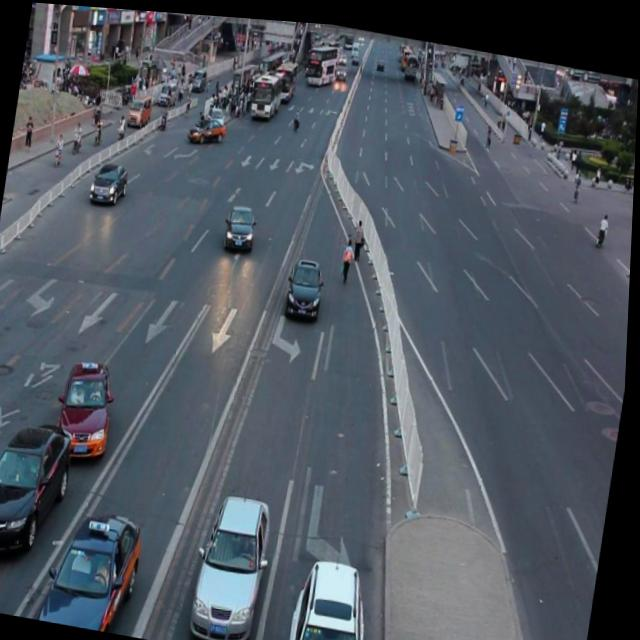car: (38, 495, 151, 634), (191, 480, 280, 640), (0, 408, 80, 560), (289, 544, 385, 640), (58, 353, 122, 463), (285, 248, 328, 317), (89, 155, 131, 207), (224, 196, 260, 252), (0, 545, 9, 612)
